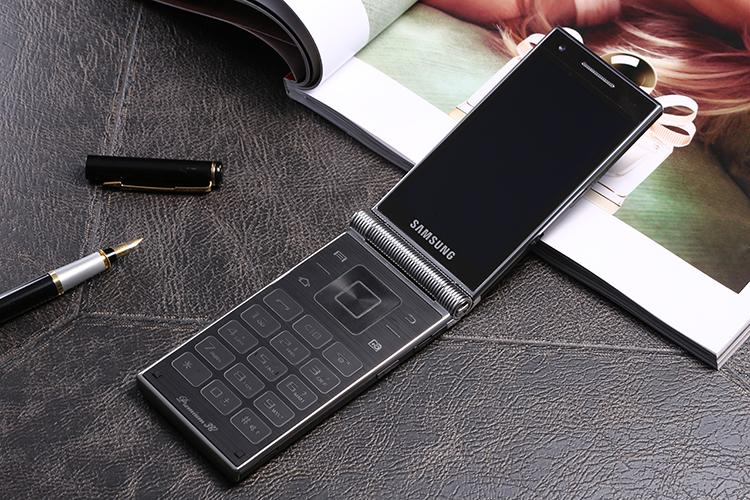phone: (155, 46, 649, 458)
